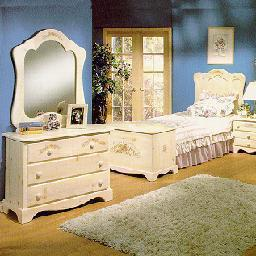Armario: (14, 133, 116, 206)
Cama: (172, 99, 232, 166)
